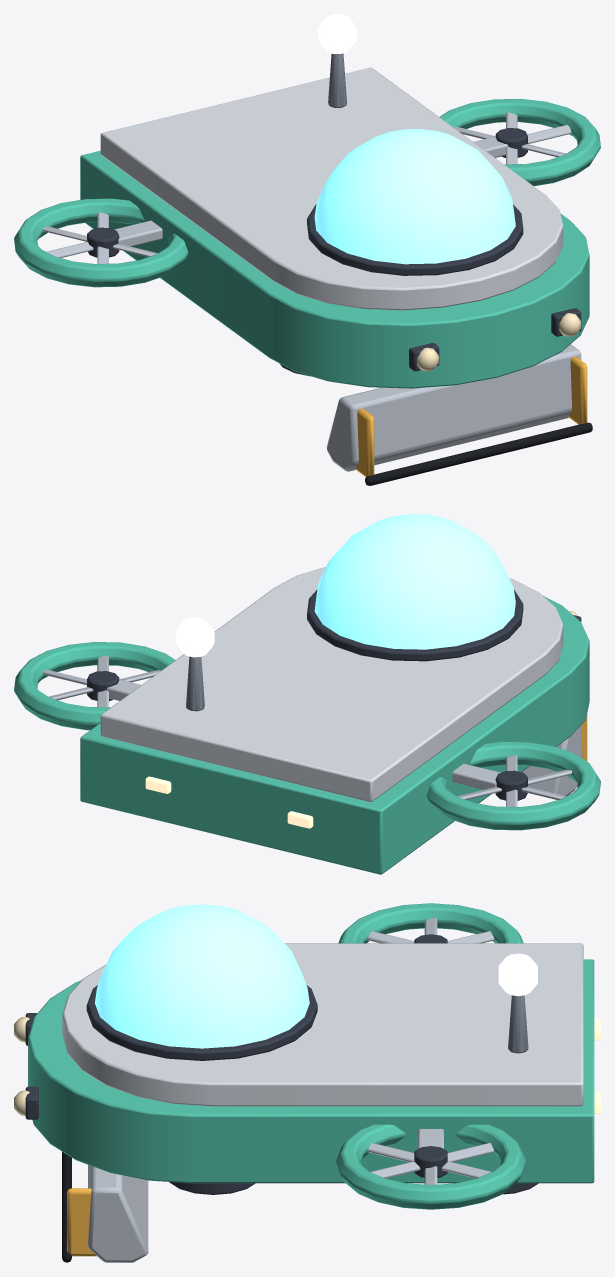
The model's file is schwebe.fbx.
The picture shows the model from 3 angles, top to bottom: view 1: azimuth 30°, elevation 25°; view 2: azimuth 150°, elevation 25°; view 3: azimuth 270°, elevation 25°; orthographic projection. The views are drawn at different scales.
Parts seen in each view (by area): view 1: schwebe_Koerper, schwebe_Werkzeug; view 2: schwebe_Koerper, schwebe_Werkzeug; view 3: schwebe_Koerper, schwebe_Werkzeug.
Boxes of the visible parts, box(x1,y1,x2,y2) form: schwebe_Koerper: box(14, 14, 600, 388); schwebe_Werkzeug: box(326, 344, 592, 485); schwebe_Koerper: box(14, 514, 600, 874); schwebe_Werkzeug: box(522, 714, 587, 795); schwebe_Koerper: box(14, 903, 600, 1209); schwebe_Werkzeug: box(62, 1151, 148, 1262).
Bounding box in the file's own units: 3.17 × 1.47 × 2.69.
